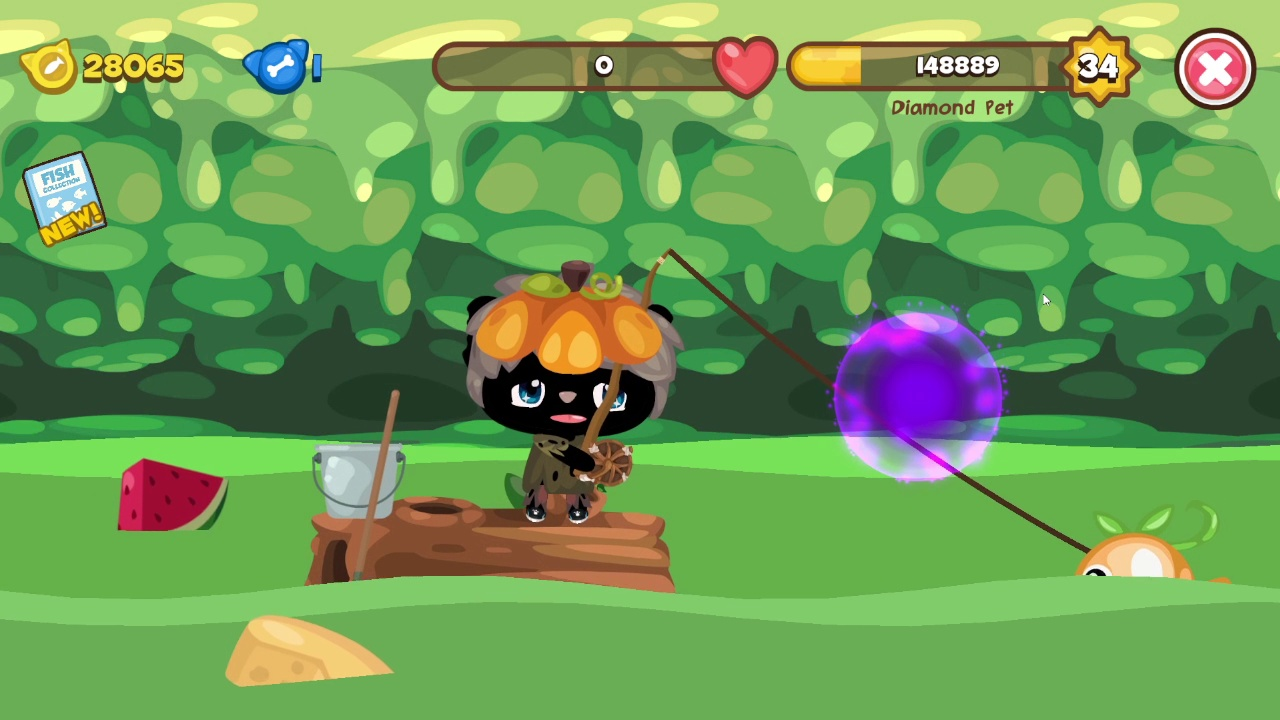point: (831, 313, 1006, 480)
